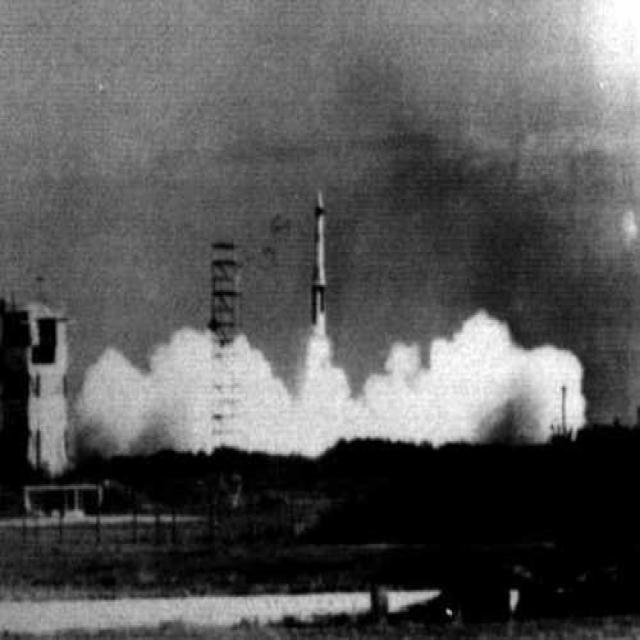missile: (300, 185, 347, 341)
